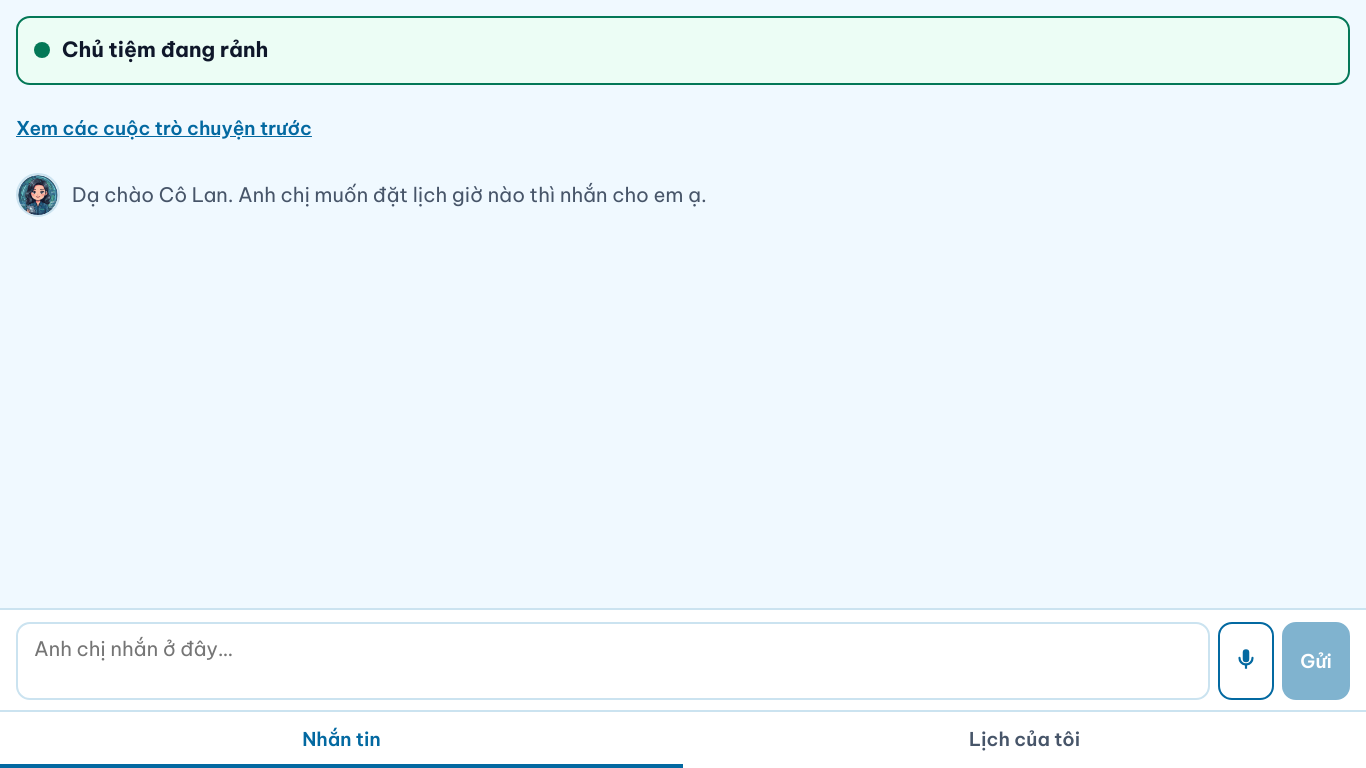
Test: ChatScreen › 32. append transcript: draft dư whitespace đuôi + transcript thừa khoảng trắng → nối đúng MỘT khoảng trắng
The image size is (1366, 768).
Type "mai 3 giờ " into the text box named "nhắn cho tiệm" at {"x": 613, "y": 661}, box [16,622,1210,700]
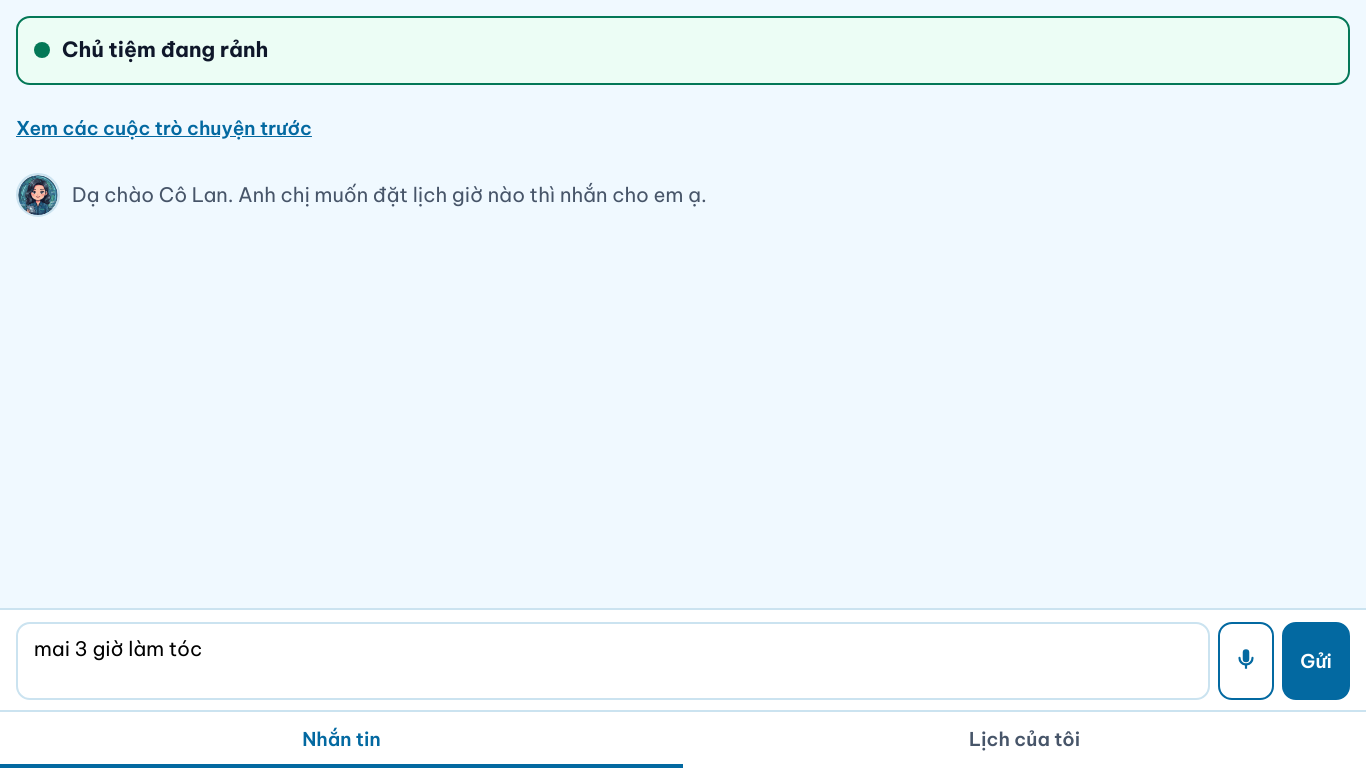
Now the text box named "nhắn cho tiệm" holds "mai 3 giờ làm tóc", box [16,622,1210,700]
